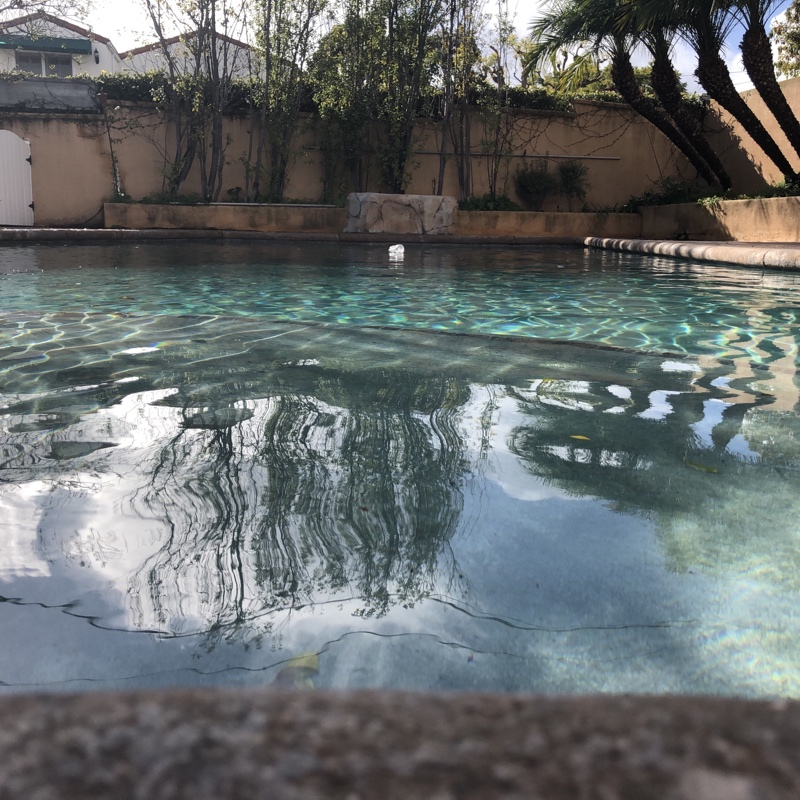Plastic Bottle: (385, 245, 404, 257)
